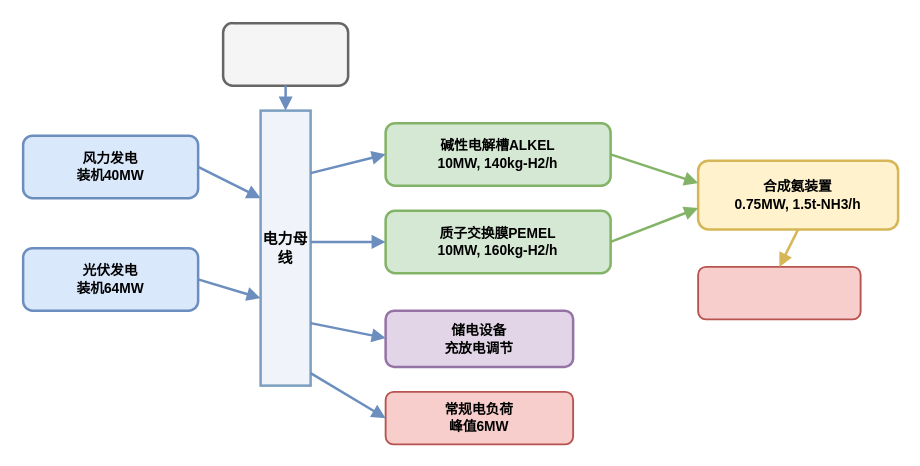
The diagram is 920 pixels wide and 466 high, and some of its shapes have lost their labels. The shapes that lost their labels are listed below. From the top down, each one's centre as x and y in pixels, then its label:
pixel 285 53: 外部电网 购电/售电
pixel 779 292: 氨负荷 36-72 t/d
